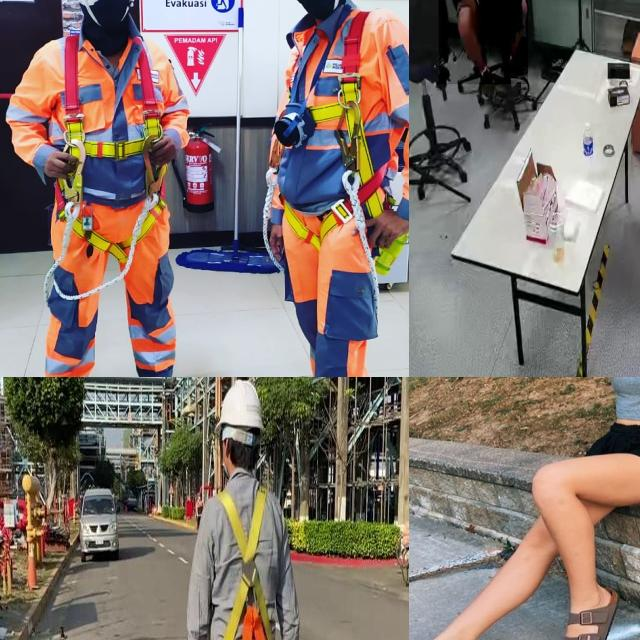Harness: (60, 31, 163, 252), (283, 9, 373, 247), (218, 487, 275, 640)
person: (438, 0, 528, 85)
